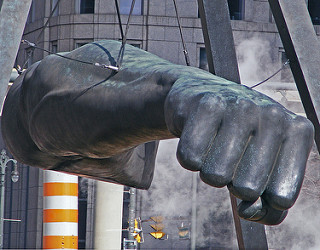fist: (176, 77, 309, 221)
